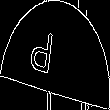P_S: (41, 26, 69, 84)
